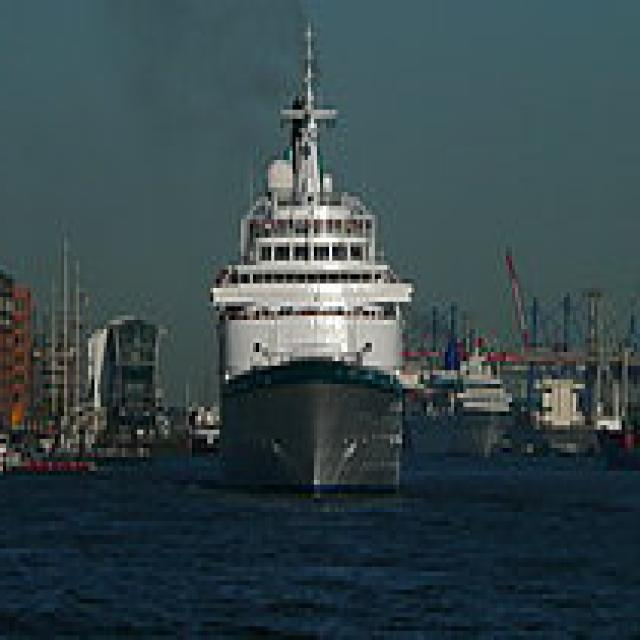Cruise: (207, 14, 421, 521), (451, 334, 518, 462)
